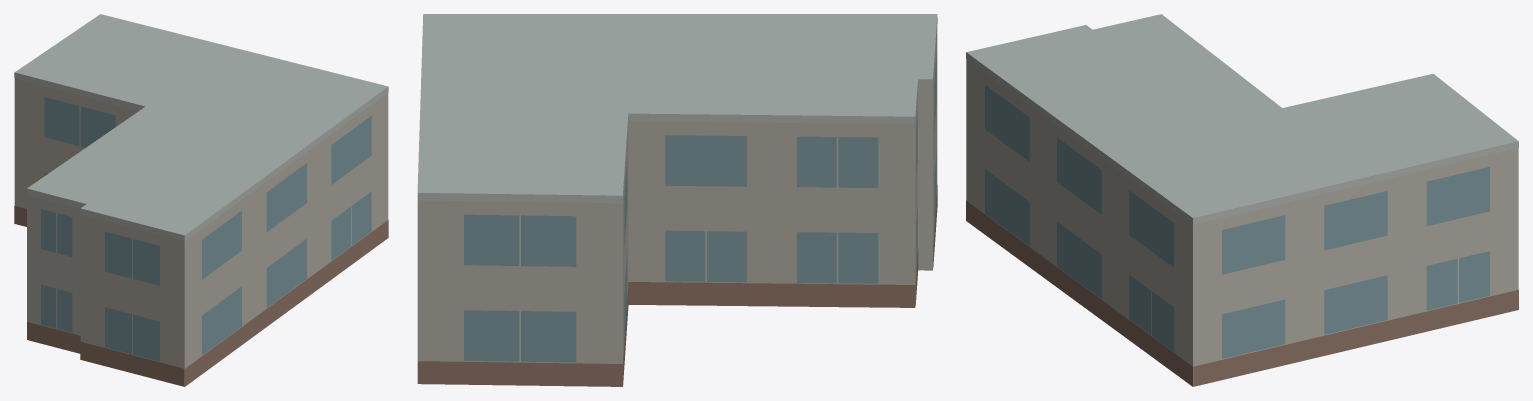
File: survey-upis-32891434.glb
3 renders of one model, left to right at view 1: azimuth 30°, elevation 25°; view 2: azimuth 150°, elevation 25°; view 3: azimuth 270°, elevation 25°, orthographic. The views are drawn at different scales.
Visible parts, largest first — view 1: survey-upis-32891434.tmp; view 2: survey-upis-32891434.tmp; view 3: survey-upis-32891434.tmp.
Part boxes in pixels (x1,y1,x2,y2): survey-upis-32891434.tmp: (14, 14, 388, 386); survey-upis-32891434.tmp: (417, 14, 937, 386); survey-upis-32891434.tmp: (966, 14, 1518, 386).
Bounding box in the file's own units: 15.85 × 6.1 × 18.12.
